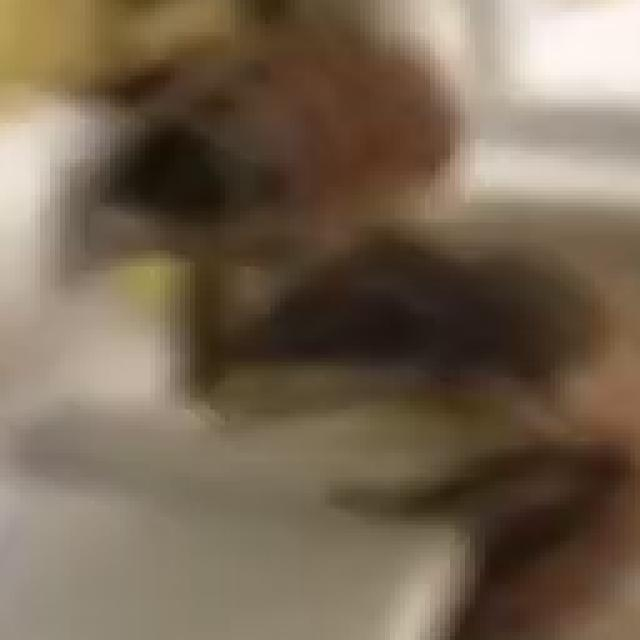honeybee: (243, 222, 592, 472), (83, 9, 360, 248), (380, 425, 640, 640)
